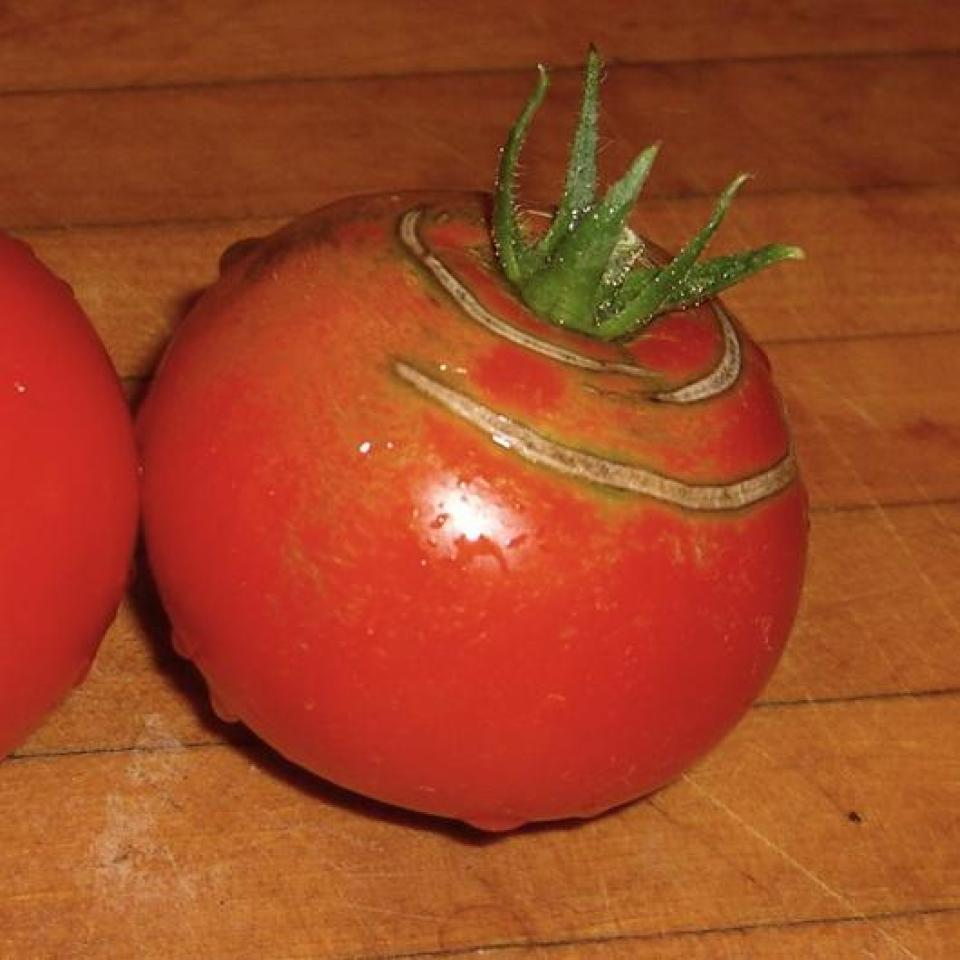Cracking: (366, 343, 812, 528), (371, 182, 670, 396), (654, 243, 752, 426)
